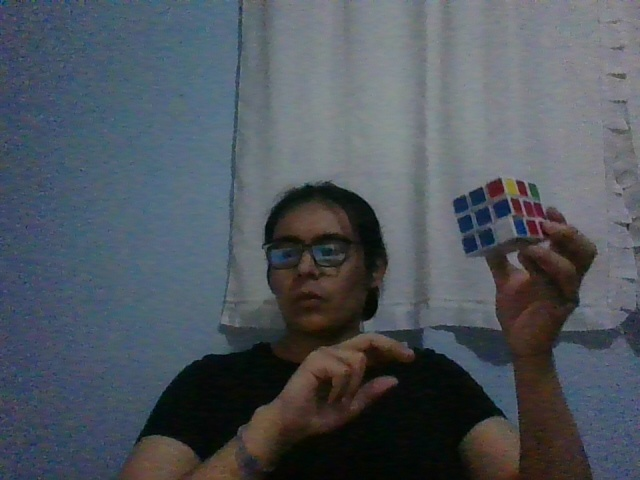rubik: (452, 175, 551, 258)
